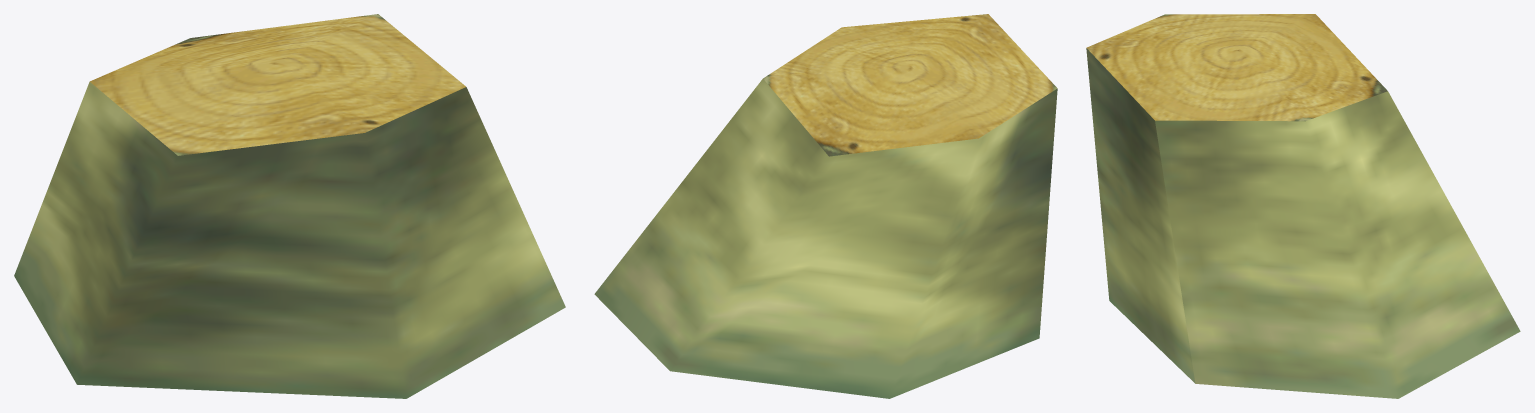
3 views of the same model, side by side, from view 1: azimuth 30°, elevation 25°; view 2: azimuth 150°, elevation 25°; view 3: azimuth 270°, elevation 25° (orthographic). The views are drawn at different scales.
Parts seen in each view (by area): view 1: Dead_Stump_Small; view 2: Dead_Stump_Small; view 3: Dead_Stump_Small.
Part boxes in pixels (left/top/right/bottom): Dead_Stump_Small: left=14, top=14, right=565, bottom=398; Dead_Stump_Small: left=594, top=14, right=1057, bottom=398; Dead_Stump_Small: left=1086, top=14, right=1520, bottom=398.
Size of the model in its own units: 43.94 by 25.13 by 42.77.
Materials: 1 (1 with a texture image).
